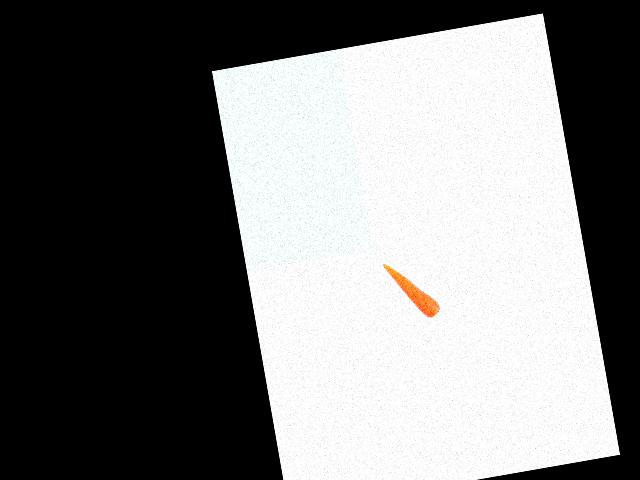carrot: (378, 252, 442, 325)
